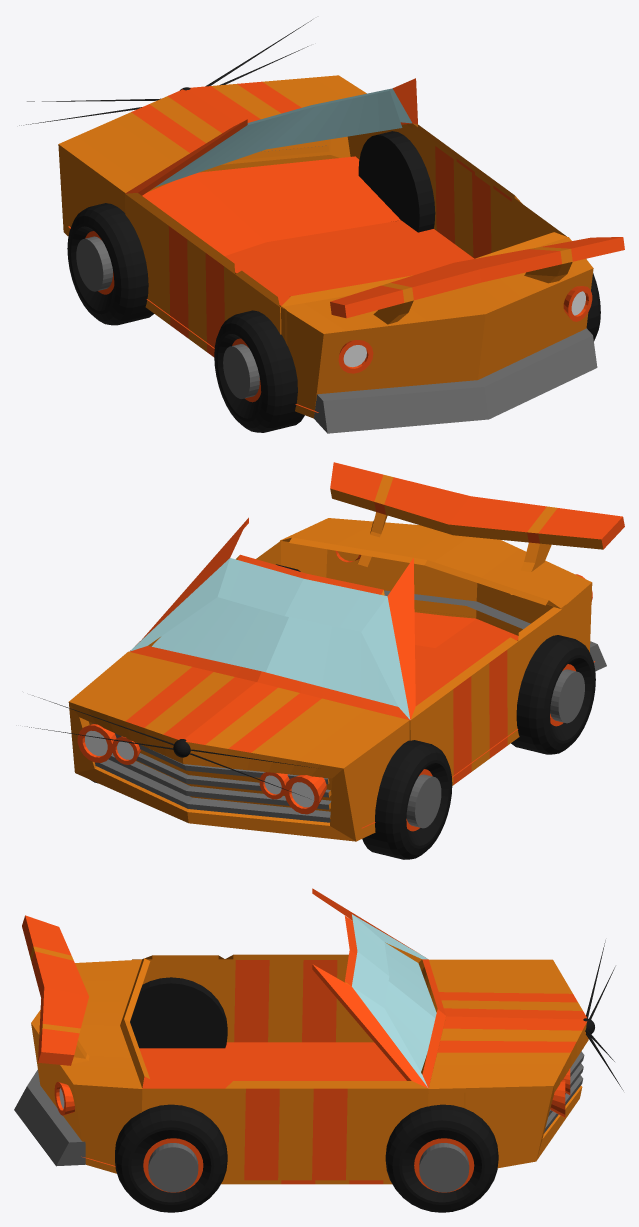
File: CarCat.fbx
3 views of the same model, one above another, from view 1: azimuth 30°, elevation 25°; view 2: azimuth 150°, elevation 25°; view 3: azimuth 270°, elevation 25° (orthographic). The views are drawn at different scales.
Visible parts, largest first — view 1: Cube, Circle.001, Circle.002, Circle; view 2: Cube, Circle.002, Circle.001, Circle; view 3: Cube, Circle.002, Circle.001, Circle.
Part boxes in pixels (<box>): Cube: <box>19,19,624,433</box>; Circle.001: <box>67,131,435,325</box>; Circle.002: <box>214,273,600,432</box>; Circle: <box>338,286,592,373</box>; Cube: <box>27,462,624,841</box>; Circle.002: <box>276,564,595,754</box>; Circle.001: <box>91,740,452,859</box>; Circle: <box>77,551,592,814</box>; Cube: <box>14,888,623,1184</box>; Circle.002: <box>115,977,227,1212</box>; Circle.001: <box>385,1104,498,1212</box>; Circle: <box>54,1068,570,1117</box>.
Size of the model in its own units: 400 by 266 by 676.
